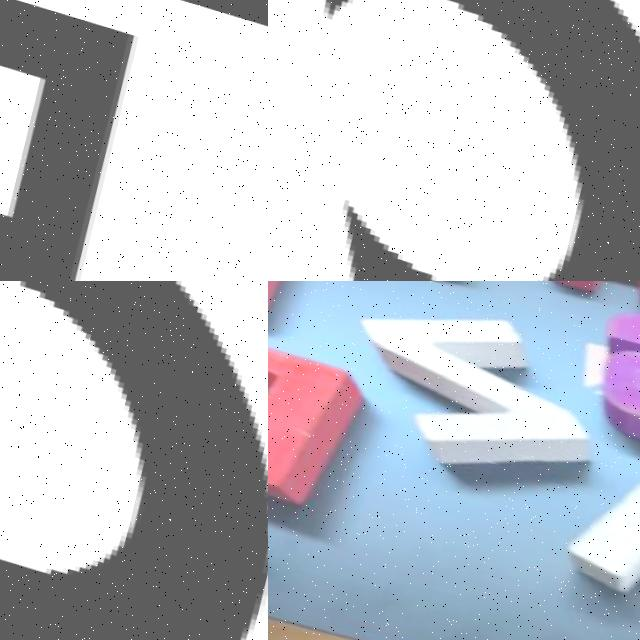C: (312, 0, 640, 281)
E: (268, 332, 380, 531)
H: (533, 421, 640, 640)
S: (572, 292, 640, 477)
Z: (316, 281, 623, 505)
